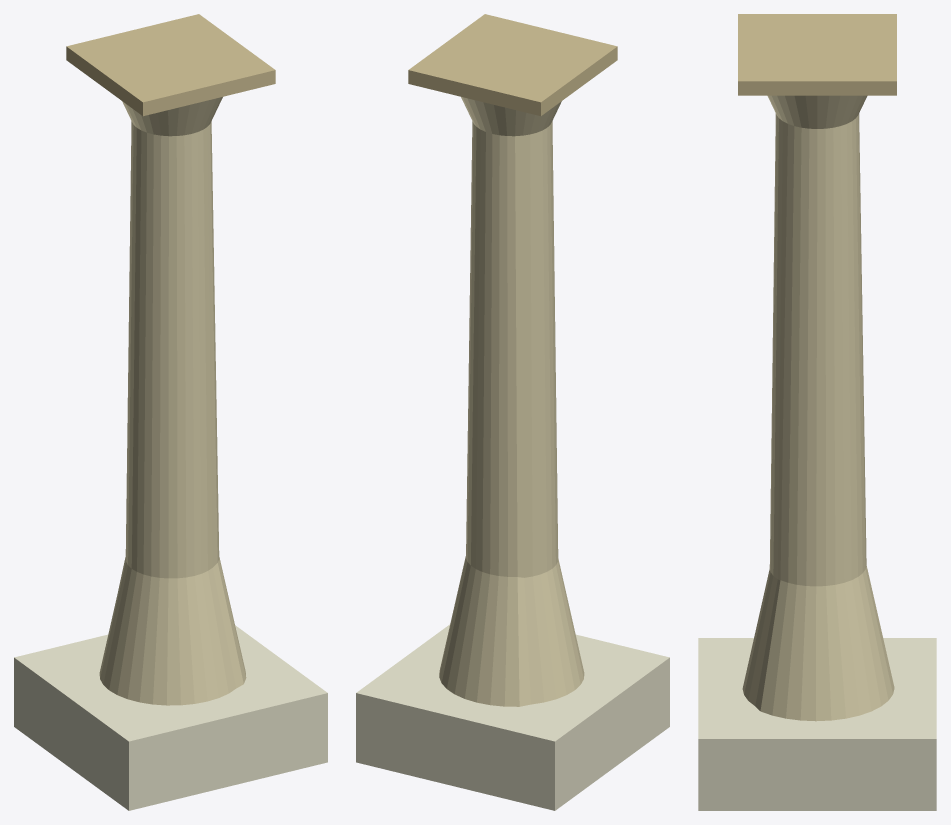
The model's file is Columna3.fbx.
The picture shows the model from 3 angles, left to right: view 1: azimuth 30°, elevation 25°; view 2: azimuth 150°, elevation 25°; view 3: azimuth 270°, elevation 25°; orthographic projection. The views are drawn at different scales.
Visible parts, largest first — view 1: Cylinder.002, Cube.015, Cube.014; view 2: Cylinder.002, Cube.015, Cube.014; view 3: Cylinder.002, Cube.015, Cube.014.
Part boxes in pixels (x1=…): Cylinder.002: x1=99, y1=97, x2=246, y2=705; Cube.015: x1=14, y1=625, x2=327, y2=810; Cube.014: x1=66, y1=14, x2=275, y2=116; Cylinder.002: x1=439, y1=97, x2=584, y2=706; Cube.015: x1=356, y1=624, x2=669, y2=810; Cube.014: x1=408, y1=14, x2=617, y2=116; Cylinder.002: x1=742, y1=95, x2=894, y2=721; Cube.015: x1=698, y1=638, x2=936, y2=810; Cube.014: x1=738, y1=14, x2=896, y2=95.
Bounding box in the file's own units: 300 × 989 × 300.
3 materials, 3 textured.
